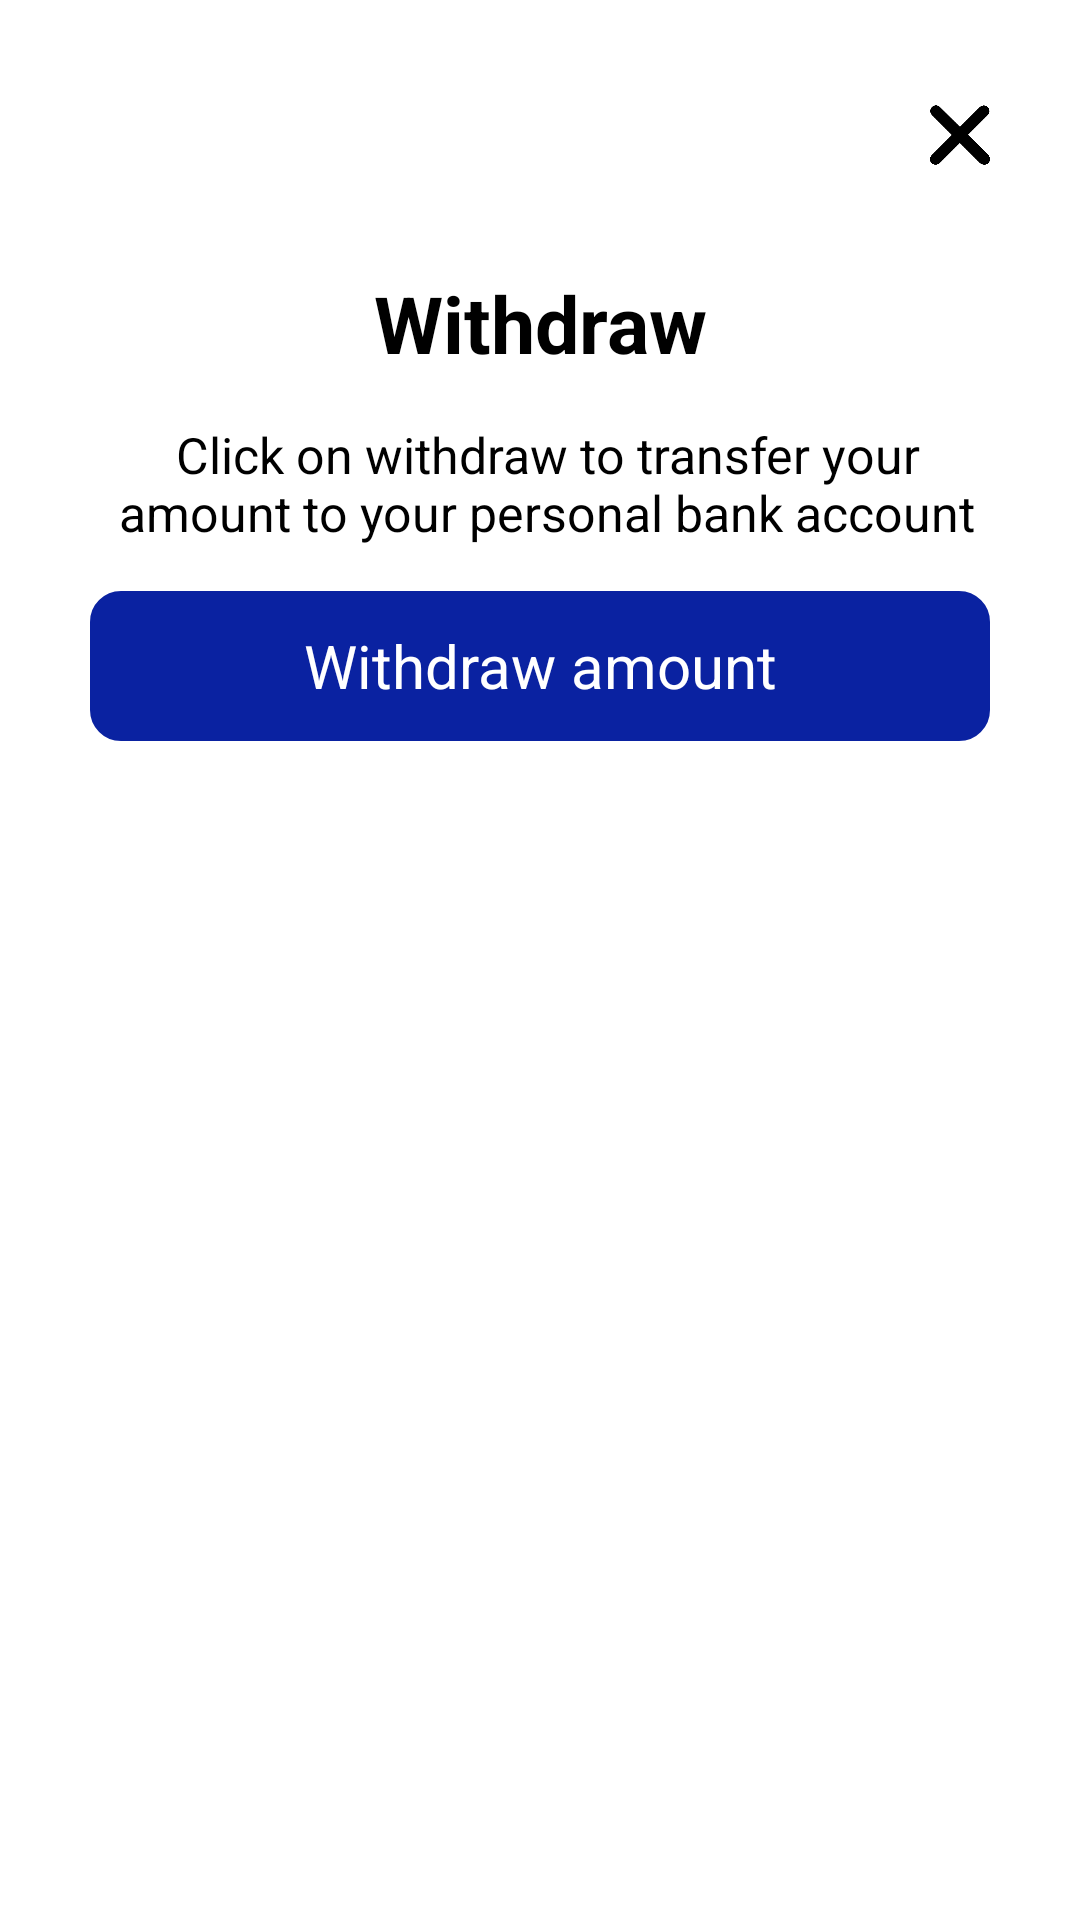

Named icons in this screenshot (1080px×1920px) and their bounding boxes, (x1, y1, x2, y2):
close: (930, 105, 990, 165)
